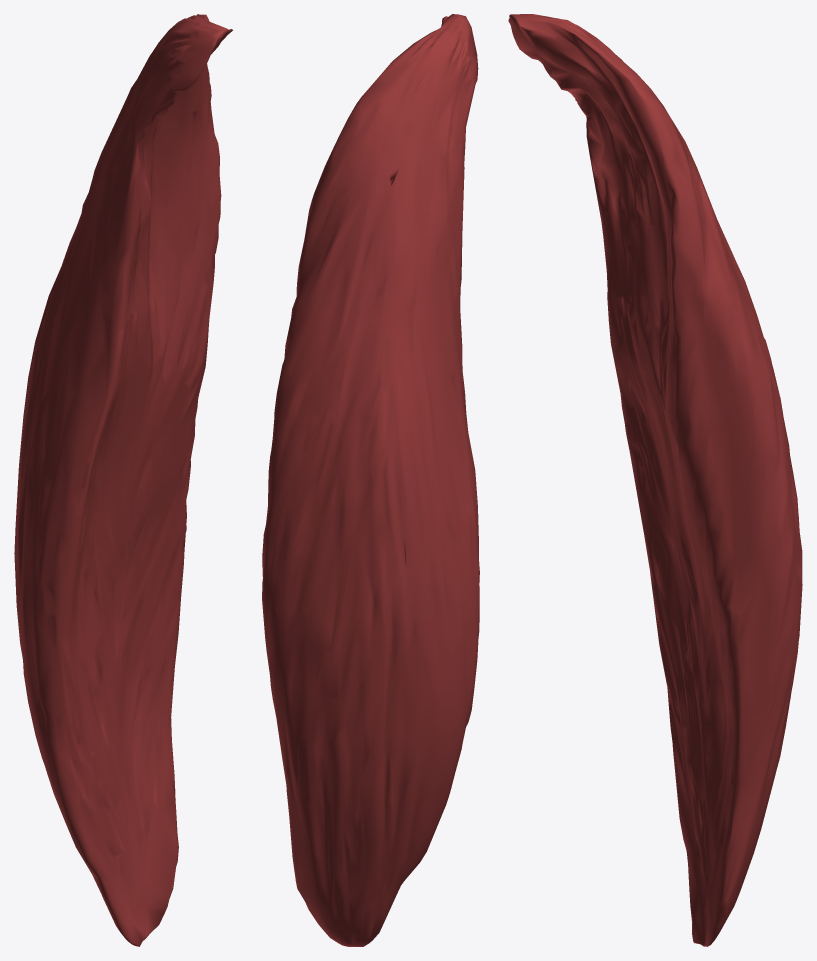
Rendered from lateral-head-of-gastrocnemius-r.glb.
3 renders of one model, left to right at view 1: azimuth 30°, elevation 25°; view 2: azimuth 150°, elevation 25°; view 3: azimuth 270°, elevation 25°, orthographic. The views are drawn at different scales.
Visible parts, largest first — view 1: Lateral head of gastrocnemius.r; view 2: Lateral head of gastrocnemius.r; view 3: Lateral head of gastrocnemius.r.
Boxes of the visible parts, x1,y1,x2,y2 form: Lateral head of gastrocnemius.r: (14,14,232,946); Lateral head of gastrocnemius.r: (262,14,479,946); Lateral head of gastrocnemius.r: (508,14,802,946).
Size of the model in its own units: 0.0541 by 0.2693 by 0.0779.
